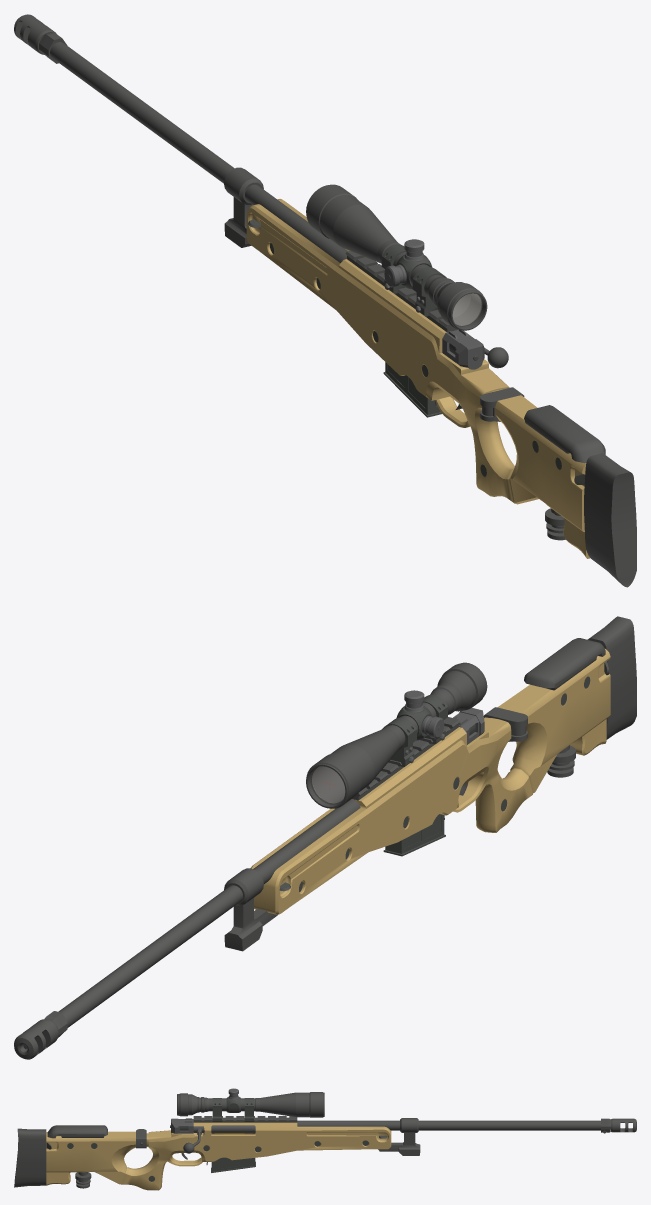
Rendered from awm.glb.
3 views of the same model, one above another, from view 1: azimuth 30°, elevation 25°; view 2: azimuth 150°, elevation 25°; view 3: azimuth 270°, elevation 25° (orthographic). The views are drawn at different scales.
Visible parts, largest first — view 1: body, builtin_sight; view 2: body, builtin_sight, magazine; view 3: body, builtin_sight, magazine.
Boxes of the visible parts, x1,y1,x2,y2 form: body: (14, 14, 636, 587); builtin_sight: (306, 184, 487, 330); body: (14, 616, 636, 1059); builtin_sight: (306, 662, 487, 808); magazine: (383, 814, 445, 856); body: (14, 1116, 636, 1190); builtin_sight: (177, 1088, 324, 1118); magazine: (211, 1133, 255, 1172).
Bounding box in the file's own units: 0.0879 × 0.2134 × 1.23.
